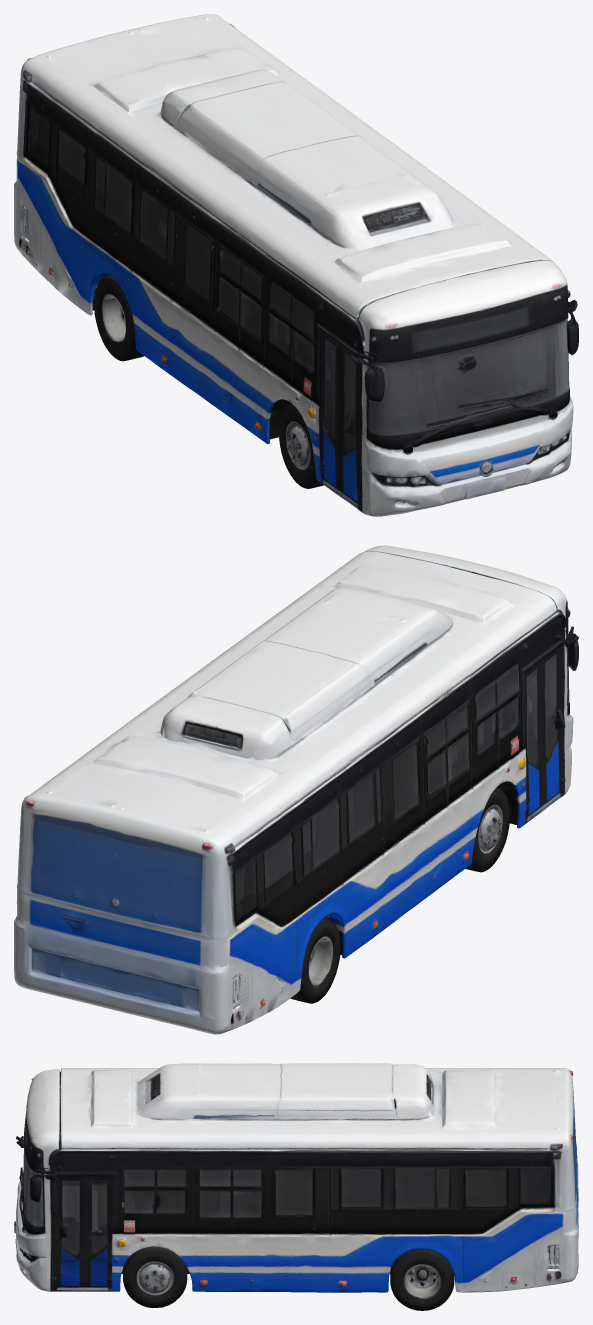
Rendered from otobus.glb.
3 views of the same model, one above another, from view 1: azimuth 30°, elevation 25°; view 2: azimuth 150°, elevation 25°; view 3: azimuth 270°, elevation 25° (orthographic). The views are drawn at different scales.
Parts seen in each view (by area): view 1: tripo_node_bbdd4c79-25f3-49a8-9c89-792a8364704d, wheel_x_2, wheel_x_0; view 2: tripo_node_bbdd4c79-25f3-49a8-9c89-792a8364704d, wheel_x_2, wheel_x_0; view 3: tripo_node_bbdd4c79-25f3-49a8-9c89-792a8364704d, wheel_x_3, wheel_x_1.
Part boxes in pixels (box(x1,y1,x2,y2)): tripo_node_bbdd4c79-25f3-49a8-9c89-792a8364704d: box(14, 14, 578, 516); wheel_x_2: box(98, 297, 129, 361); wheel_x_0: box(283, 425, 313, 488); tripo_node_bbdd4c79-25f3-49a8-9c89-792a8364704d: box(14, 545, 578, 1034); wheel_x_2: box(306, 940, 337, 1003); wheel_x_0: box(475, 808, 505, 872); tripo_node_bbdd4c79-25f3-49a8-9c89-792a8364704d: box(14, 1063, 578, 1310); wheel_x_3: box(402, 1266, 449, 1310); wheel_x_1: box(127, 1264, 175, 1307).
Bounding box in the file's own units: 0.3487 × 0.3793 × 1.
1 material, 1 textured.
